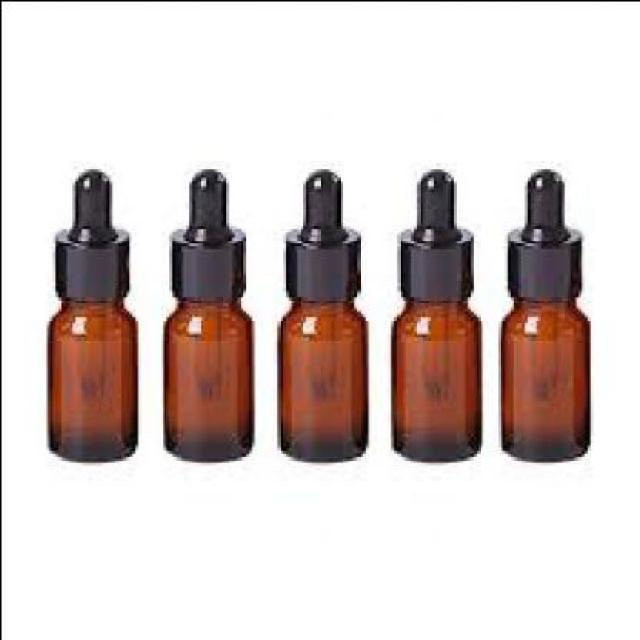GLASS: (387, 293, 478, 458), (276, 296, 367, 458), (158, 296, 248, 458), (497, 296, 586, 458), (44, 296, 134, 455)
PLASTIC: (51, 165, 126, 293), (396, 164, 470, 290), (168, 168, 242, 294), (282, 166, 352, 296), (504, 165, 574, 293)
